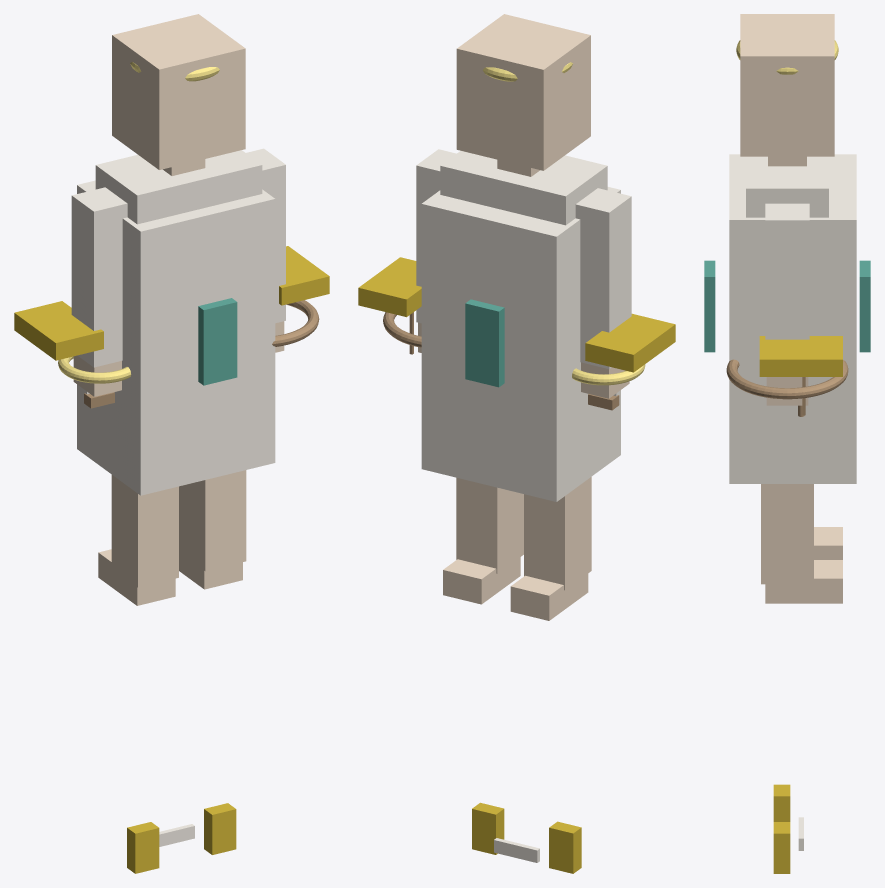
File: apollo.glb
3 renders of one model, left to right at view 1: azimuth 30°, elevation 25°; view 2: azimuth 150°, elevation 25°; view 3: azimuth 270°, elevation 25°, orthographic.
Visible parts, largest first — view 1: outfit_tunic_0, head, arm_L_upper, torso, leg_L_shin, leg_R_shin, outfit_armor_2, outfit_armor_4, arm_R_upper, outfit_armor_1, leg_L_foot, outfit_sandals_1 (+5 smaller); view 2: outfit_tunic_0, head, torso, arm_L_upper, leg_L_shin, leg_R_shin, outfit_armor_2, outfit_armor_3, outfit_armor_1, leg_L_foot, leg_R_foot, arm_R_upper (+6 smaller); view 3: outfit_tunic_0, head, arm_R_upper, leg_R_shin, torso, outfit_armor_1, leg_R_foot, prop_bow, outfit_armor_3, outfit_armor_4, leg_L_foot, outfit_sandals_1 (+3 smaller).
Part boxes in pixels (x1,y1,x2,y2): outfit_tunic_0: (77, 180, 275, 495); head: (112, 14, 245, 169); arm_L_upper: (71, 187, 127, 367); torso: (95, 150, 262, 224); leg_L_shin: (111, 475, 178, 587); leg_R_shin: (179, 470, 246, 571); outfit_armor_2: (14, 301, 103, 360); outfit_armor_4: (198, 298, 237, 385); arm_R_upper: (246, 148, 285, 323); outfit_armor_1: (279, 246, 329, 305); leg_L_foot: (98, 549, 175, 605); outfit_sandals_1: (204, 803, 236, 854); outfit_tunic_0: (421, 187, 620, 501); head: (456, 14, 590, 170); torso: (440, 151, 607, 225); arm_L_upper: (575, 188, 631, 369); leg_L_shin: (524, 477, 591, 590); leg_R_shin: (456, 477, 523, 573); outfit_armor_2: (585, 313, 675, 372); outfit_armor_3: (465, 299, 504, 387); outfit_armor_1: (358, 257, 421, 317); leg_L_foot: (510, 574, 588, 620); leg_R_foot: (443, 557, 520, 604); arm_R_upper: (416, 149, 456, 323); outfit_tunic_0: (729, 154, 856, 483); head: (740, 14, 834, 156); arm_R_upper: (765, 203, 809, 339); leg_R_shin: (761, 484, 813, 584); torso: (746, 156, 828, 217); outfit_armor_1: (759, 336, 842, 376); leg_R_foot: (765, 560, 842, 603); prop_bow: (726, 359, 848, 421); outfit_armor_3: (859, 260, 870, 352); outfit_armor_4: (704, 260, 715, 352); leg_L_foot: (814, 527, 842, 559); outfit_sandals_1: (773, 822, 790, 873).
Size of the model in its own units: 1.14 by 3.24 by 0.6.
